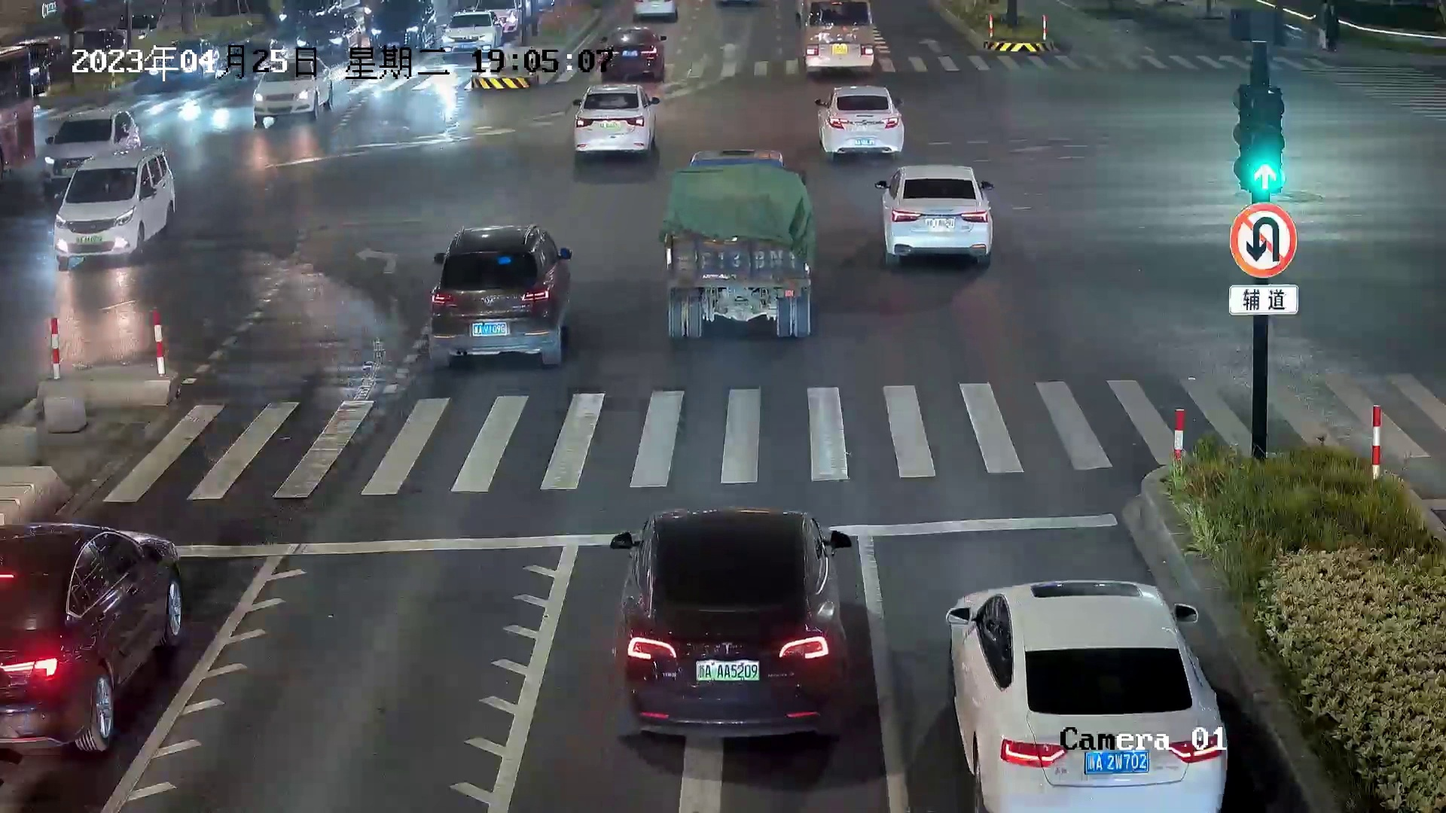vehicle: (944, 571, 1222, 812), (608, 501, 842, 738), (0, 516, 191, 759), (652, 145, 812, 344), (425, 217, 569, 370), (49, 145, 182, 260), (874, 159, 995, 258), (41, 105, 135, 175), (814, 78, 895, 157), (571, 75, 645, 154), (798, 2, 880, 72), (249, 59, 330, 119), (365, 1, 435, 53), (291, 14, 358, 56), (606, 26, 661, 75), (439, 12, 502, 53)
